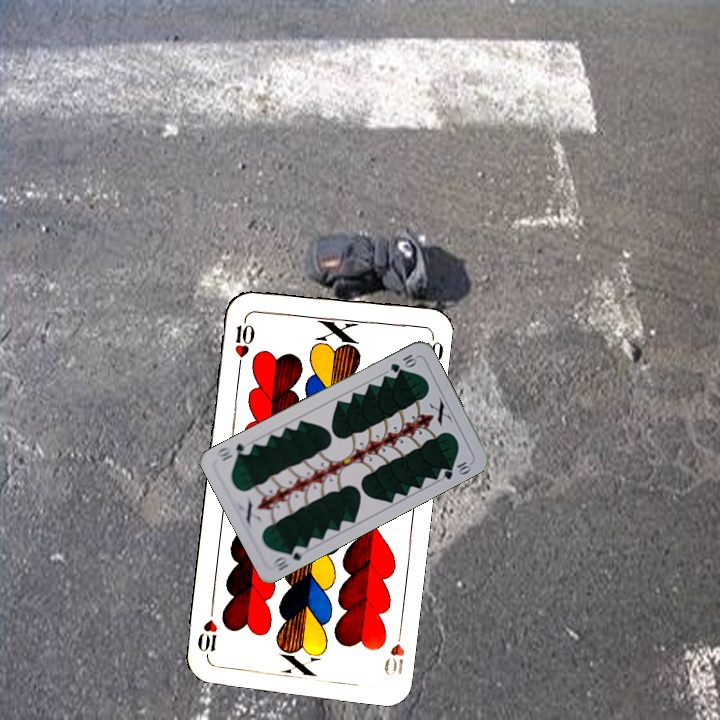G10: (270, 541, 309, 574), (386, 350, 420, 375)
H10: (379, 622, 407, 679), (231, 312, 257, 371)
